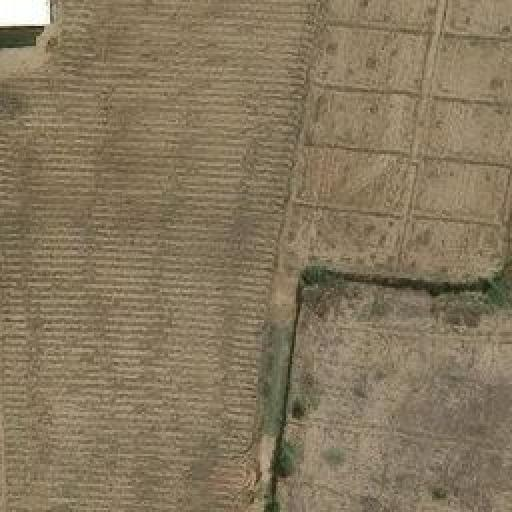manzanas: (0, 0, 52, 41)
